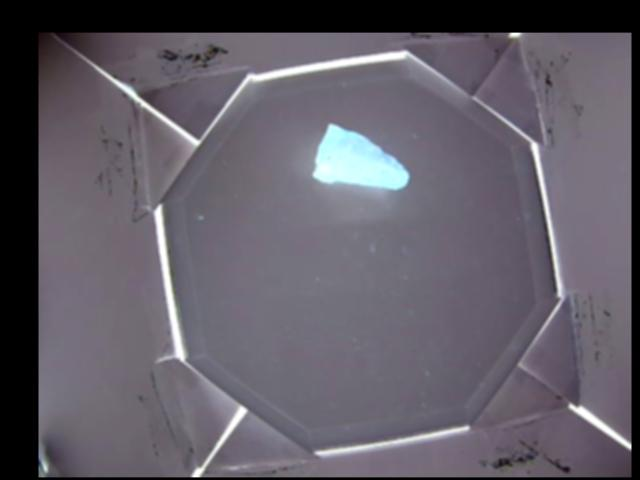Brisk: (312, 122, 410, 191)
